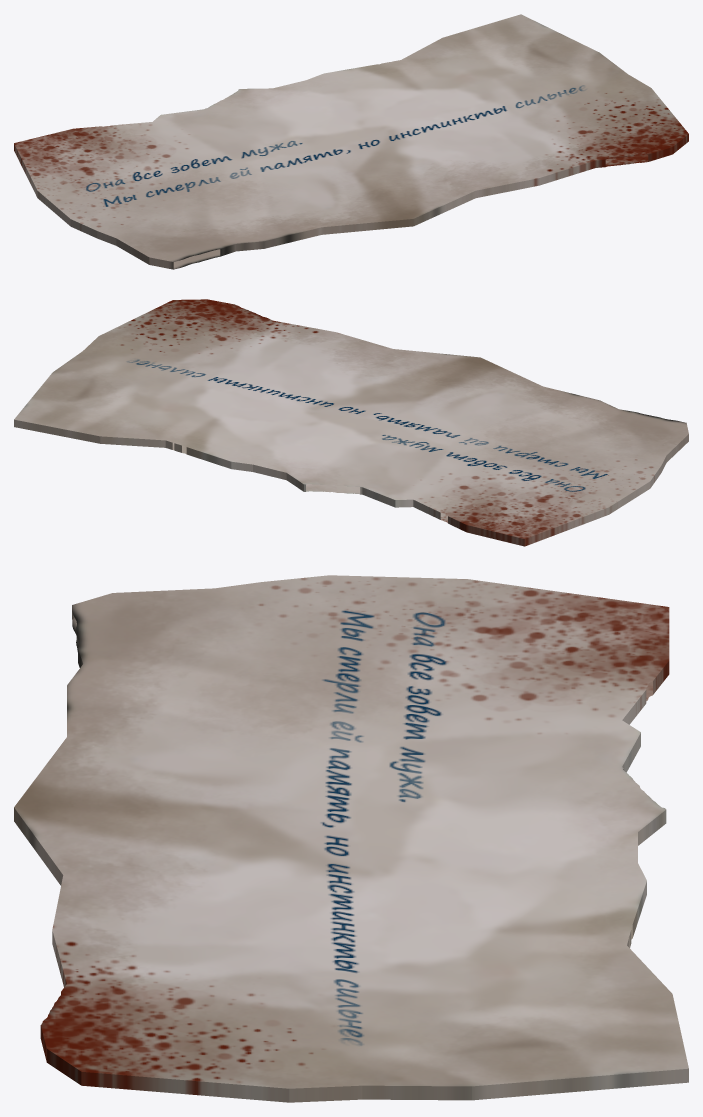
The model's file is A_note_5_level.fbx.
3 renders of one model, top to bottom at view 1: azimuth 30°, elevation 25°; view 2: azimuth 150°, elevation 25°; view 3: azimuth 270°, elevation 25°, orthographic. The views are drawn at different scales.
Parts seen in each view (by area): view 1: A_note_5_level; view 2: A_note_5_level; view 3: A_note_5_level.
Part boxes in pixels (bbox=[...]): A_note_5_level: bbox=[14, 14, 688, 269]; A_note_5_level: bbox=[14, 299, 688, 546]; A_note_5_level: bbox=[14, 575, 688, 1102].
Size of the model in its own units: 48.87 by 0.6194 by 27.15.
